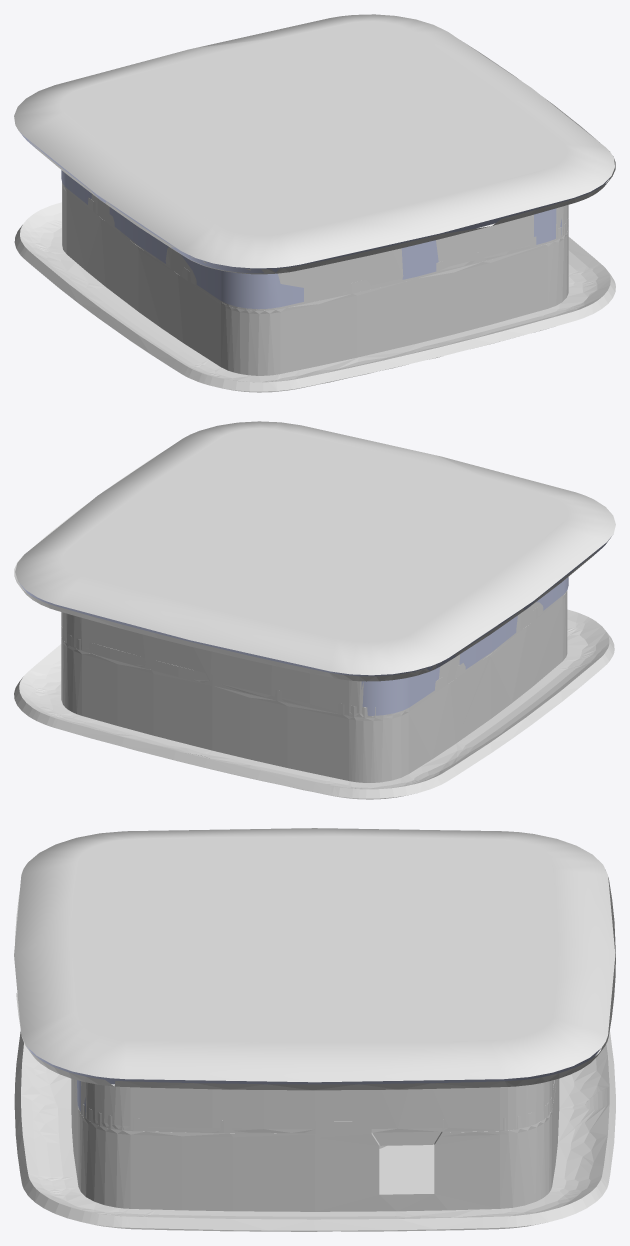
The model's file is Un1-production.glb.
The picture shows the model from 3 angles, top to bottom: view 1: azimuth 30°, elevation 25°; view 2: azimuth 150°, elevation 25°; view 3: azimuth 270°, elevation 25°; orthographic projection. The views are drawn at different scales.
Visible parts, largest first — view 1: Top_Front, Bottom, Top, TOP AT L; view 2: Top_Front, Bottom, Top, TOP AT L; view 3: Top_Front, Bottom, Top, TOP AT L.
Part boxes in pixels (<box>): Top_Front: <box>14,14,614,268</box>; Bottom: <box>14,182,615,392</box>; Top: <box>21,42,615,310</box>; TOP AT L: <box>20,132,610,309</box>; Top_Front: <box>15,421,615,675</box>; Bottom: <box>14,591,614,799</box>; Top: <box>14,450,601,717</box>; TOP AT L: <box>19,536,611,715</box>; Top_Front: <box>14,828,615,1082</box>; Bottom: <box>14,1030,615,1231</box>; Top: <box>15,877,615,1145</box>; TOP AT L: <box>26,1046,600,1115</box>.
Size of the model in its own units: 0.1062 by 0.0358 by 0.1061.
